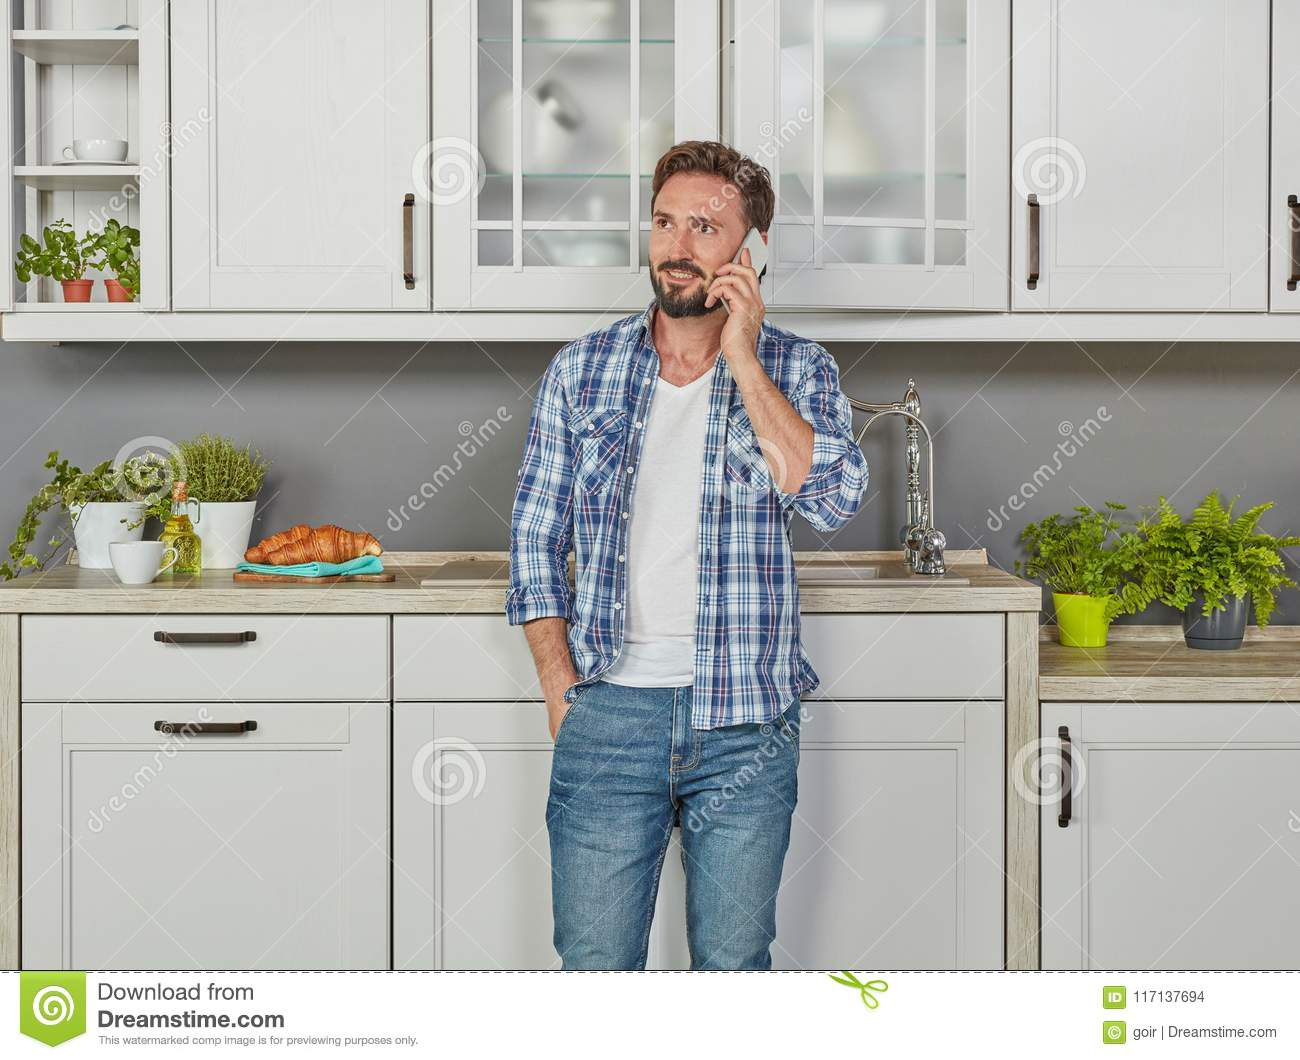phone: (720, 227, 769, 316)
talk: (647, 202, 771, 359)
